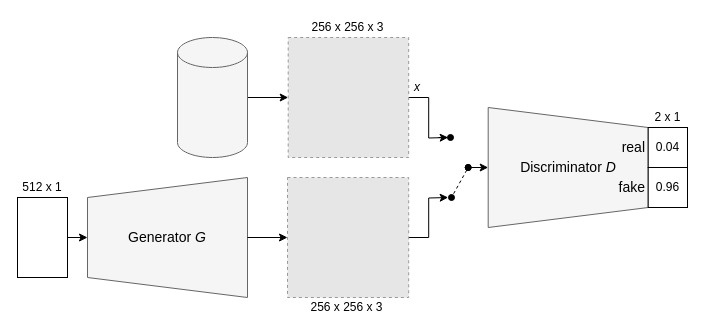
The diagram is 705 pixels wide and 334 high, and some of its shapes have lost their labels. Grey dashed boxes stand in for pictures. Here are the shapes that lost their labels. From the top down, the centre of each, then its label:
At (212,97): "Train Dataset X".
At (42,237): "Latent z".
